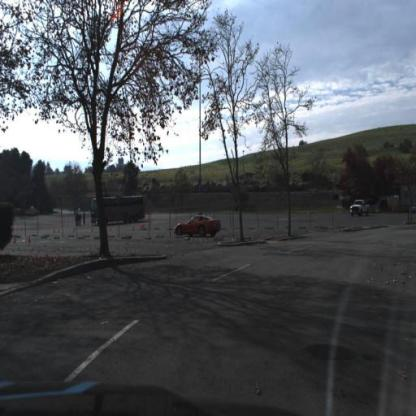car: (174, 215, 221, 239), (350, 196, 373, 220)
truck: (92, 193, 146, 229)
